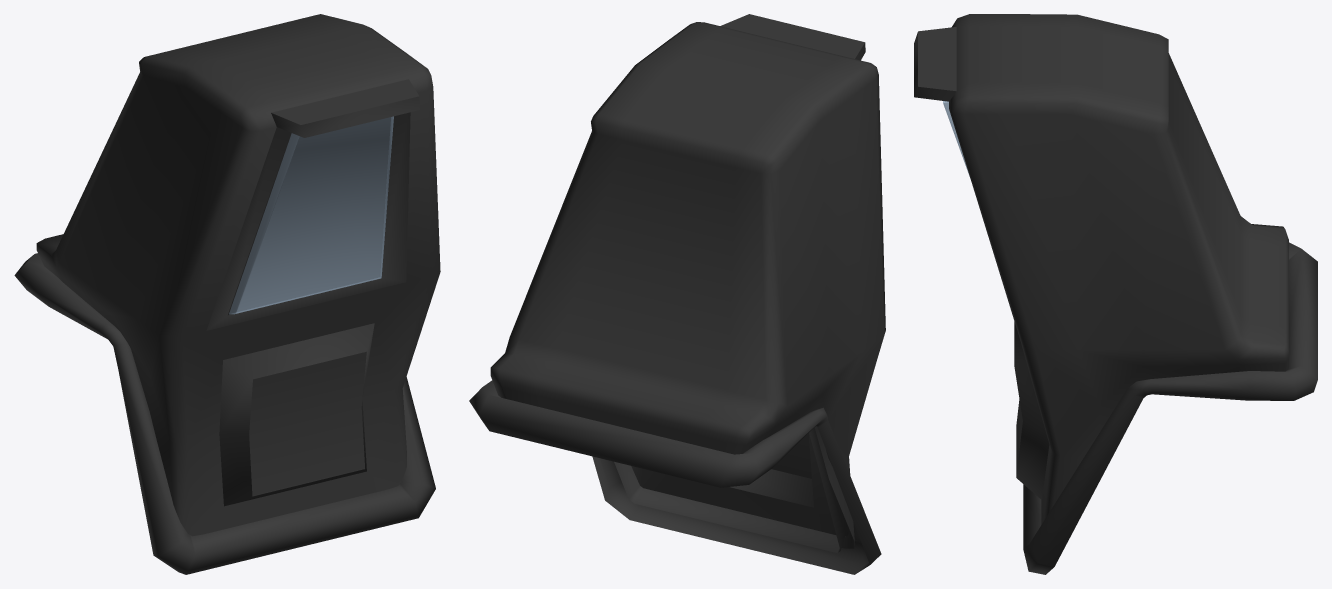
Rendered from SM_DeskT2_Sup05B.FBX.
The picture shows the model from 3 angles, left to right: view 1: azimuth 30°, elevation 25°; view 2: azimuth 150°, elevation 25°; view 3: azimuth 270°, elevation 25°; orthographic projection. The views are drawn at different scales.
Visible parts, largest first — view 1: SM_DeskT2_Sup05B; view 2: SM_DeskT2_Sup05B; view 3: SM_DeskT2_Sup05B.
Boxes of the visible parts, <box> form: SM_DeskT2_Sup05B: <box>14,14,440,574</box>; SM_DeskT2_Sup05B: <box>469,14,885,574</box>; SM_DeskT2_Sup05B: <box>914,14,1317,574</box>.
Size of what is drawn, in the model's own units: 33.51 by 40.95 by 52.21.
